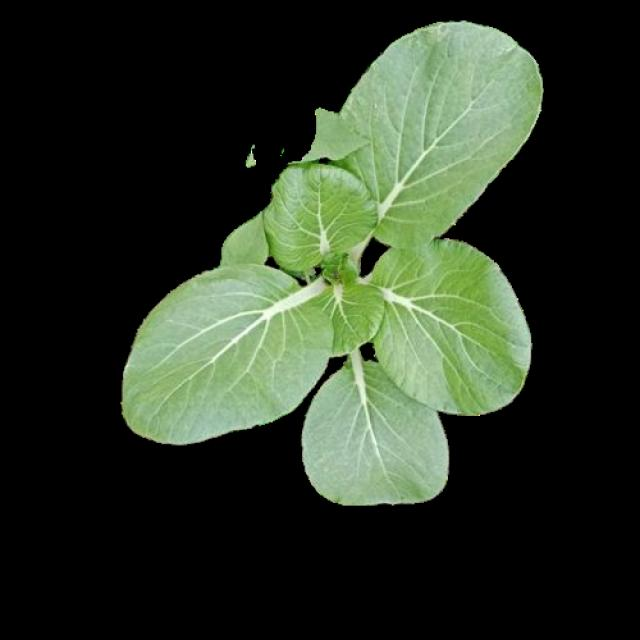healthy: (119, 19, 538, 501)
not-mature: (122, 22, 540, 503)
